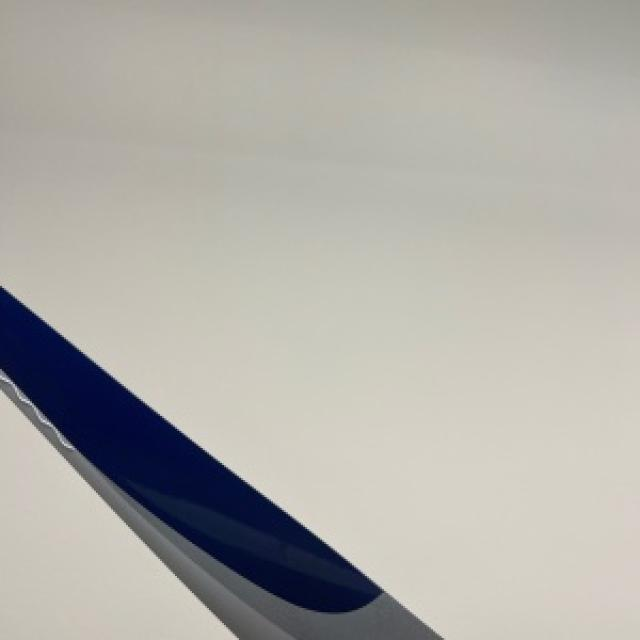healthy: (0, 286, 439, 638)
